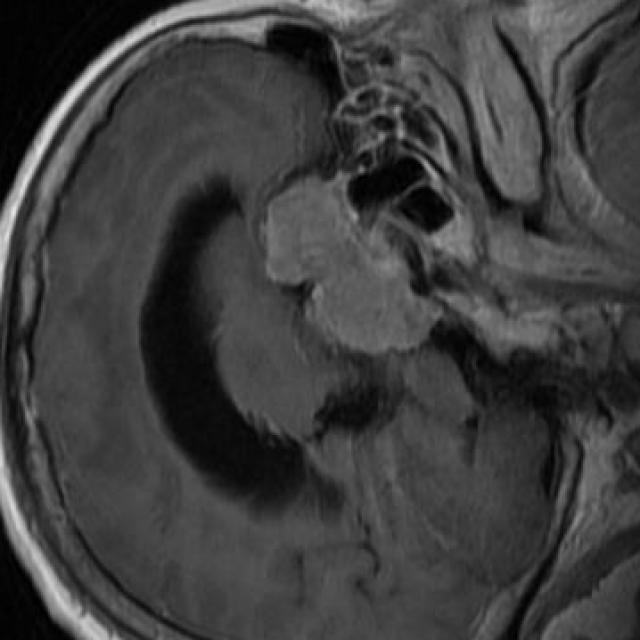meningioma: (266, 180, 447, 355)
